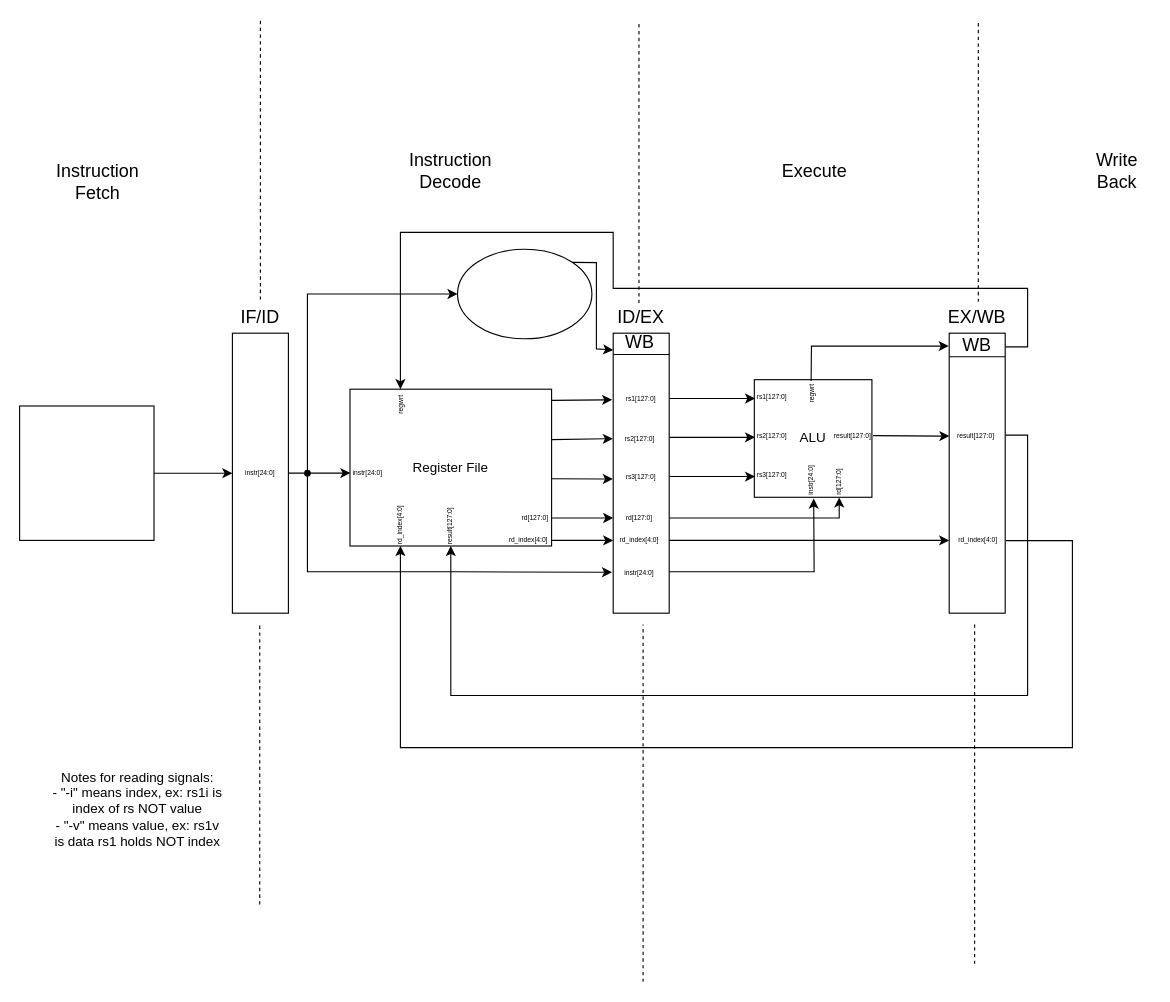
Image size: 1170x1002. Some labels were removed from this diagram. Each missing label, with the centre of its shape:
"Control Unit" belongs at pixel 524 293.
"Instruction Buffer" belongs at pixel 86 472.
